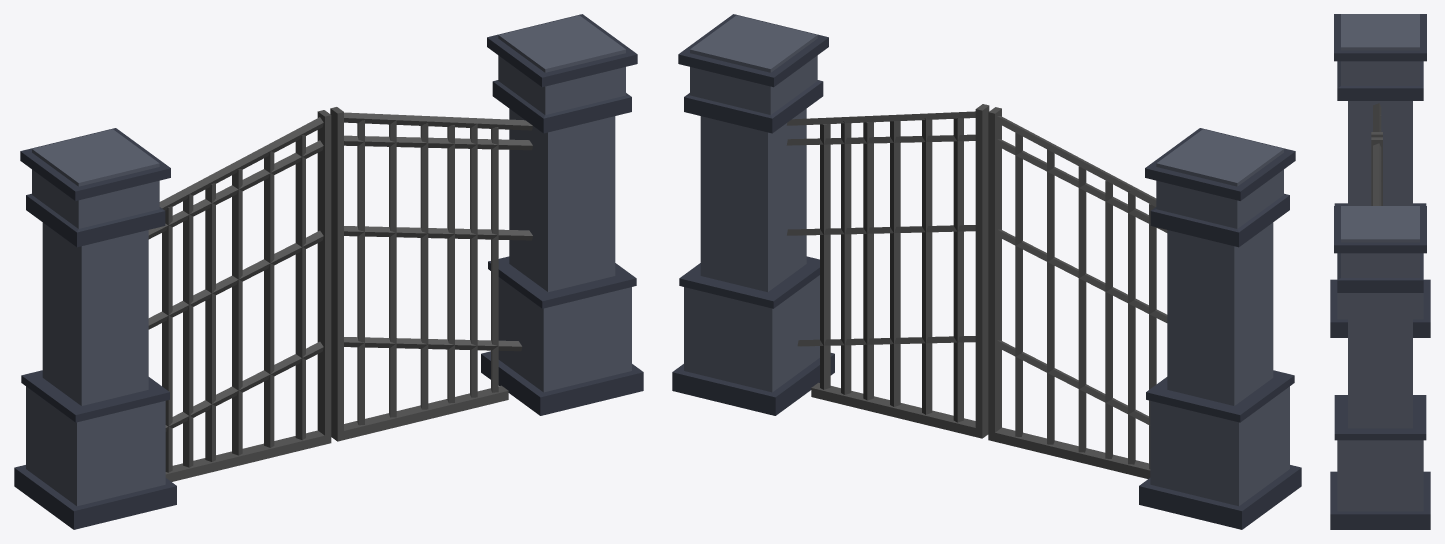
Rendered from Mesh_closed_gate.fbx.
3 views of the same model, side by side, from view 1: azimuth 30°, elevation 25°; view 2: azimuth 150°, elevation 25°; view 3: azimuth 270°, elevation 25° (orthographic). The views are drawn at different scales.
Parts seen in each view (by area): view 1: closed_gate; view 2: closed_gate; view 3: closed_gate.
Boxes of the visible parts, x1,y1,x2,y2 form: closed_gate: [14, 14, 643, 529]; closed_gate: [672, 14, 1301, 529]; closed_gate: [1330, 14, 1430, 529].
Size of the model in its own units: 601 by 342 by 109.
1 material, 1 textured.
